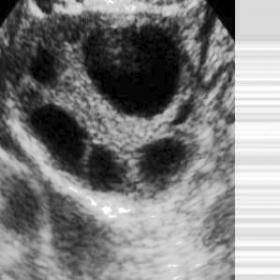PCOS: (83, 25, 185, 120), (26, 106, 88, 178), (137, 136, 190, 192), (82, 145, 128, 193), (26, 43, 63, 90), (168, 93, 197, 129)
